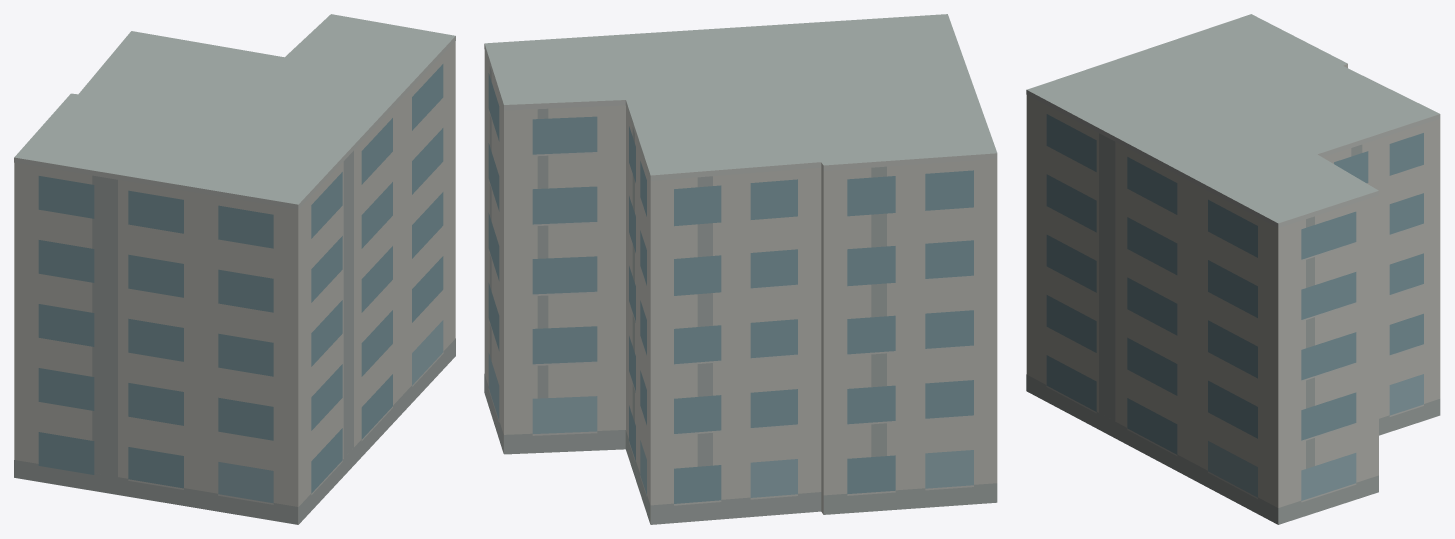
Rendered from survey-upis-32725234.glb.
3 views of the same model, side by side, from view 1: azimuth 30°, elevation 25°; view 2: azimuth 150°, elevation 25°; view 3: azimuth 270°, elevation 25° (orthographic). The views are drawn at different scales.
Visible parts, largest first — view 1: survey-upis-32725234.tmp; view 2: survey-upis-32725234.tmp; view 3: survey-upis-32725234.tmp.
Part boxes in pixels (box(x1,y1,x2,y2)): survey-upis-32725234.tmp: box(14, 14, 455, 524); survey-upis-32725234.tmp: box(484, 14, 997, 524); survey-upis-32725234.tmp: box(1026, 14, 1440, 524).
Bounding box in the file's own units: 22.73 × 15.25 × 18.98.
